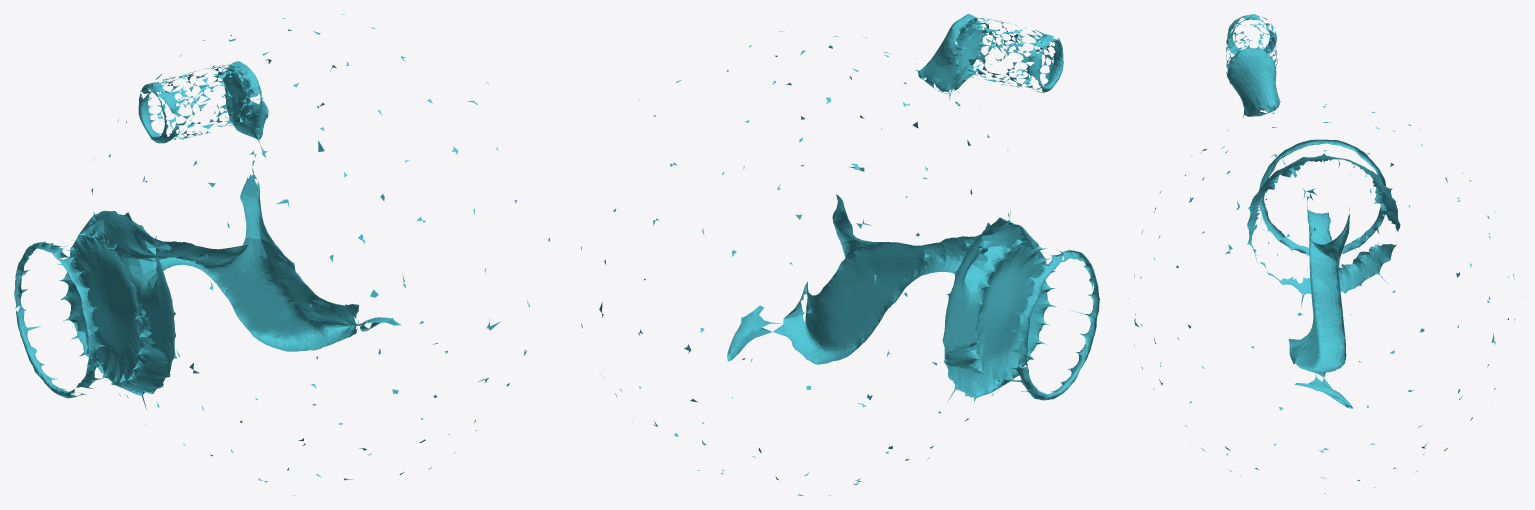
3 renders of one model, left to right at view 1: azimuth 30°, elevation 25°; view 2: azimuth 150°, elevation 25°; view 3: azimuth 270°, elevation 25°, orthographic. The views are drawn at different scales.
Visible parts, largest first — view 1: Renderer Node; view 2: Renderer Node; view 3: Renderer Node.
Part boxes in pixels (<box>): Renderer Node: <box>14,14,549,495</box>; Renderer Node: <box>581,14,1099,495</box>; Renderer Node: <box>1128,14,1514,493</box>.
Size of the model in its own units: 0.5465 by 0.5898 by 0.5487.
1 material, 1 textured.
